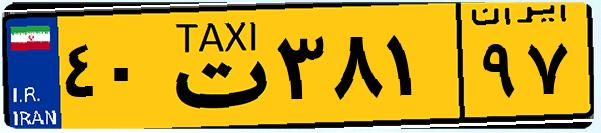0: (110, 28, 158, 98)
1: (385, 28, 445, 110)
3: (270, 28, 330, 110)
4: (57, 26, 110, 100)
7: (525, 38, 570, 115)
8: (330, 28, 385, 110)
9: (475, 38, 525, 113)
ت: (158, 12, 270, 120)
